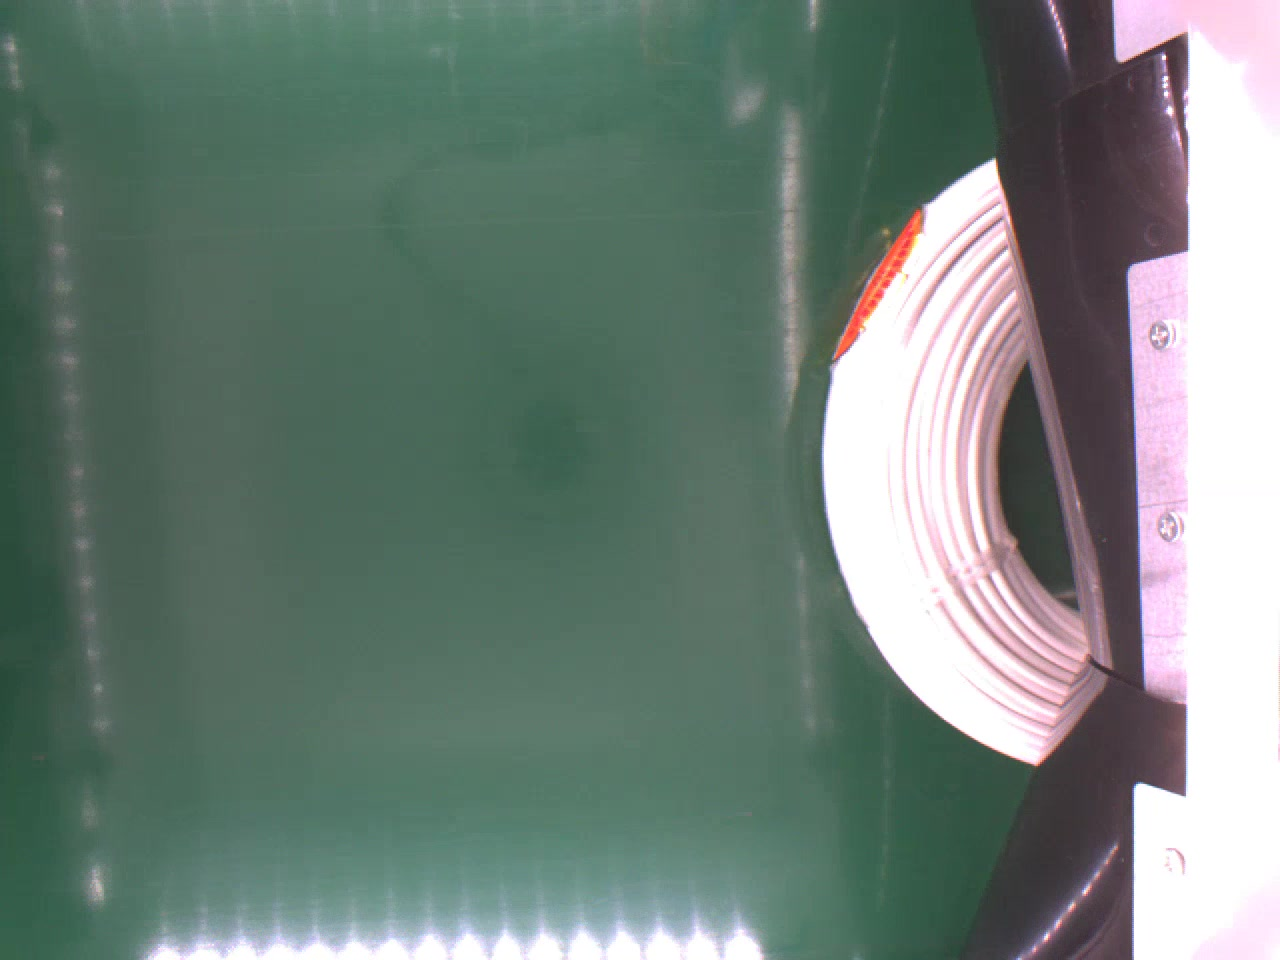white: (823, 159, 1094, 765)
